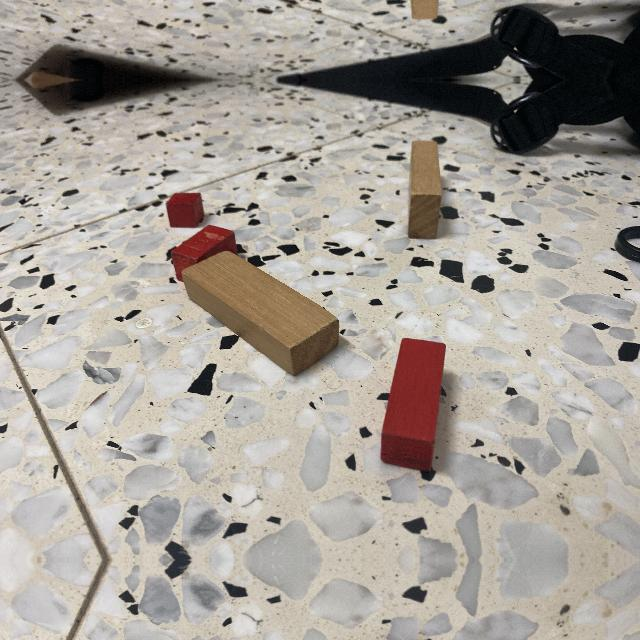jenga: (181, 250, 339, 376), (408, 140, 442, 240)
red block: (380, 338, 446, 472), (171, 225, 238, 282)
red cube: (166, 193, 204, 229)
